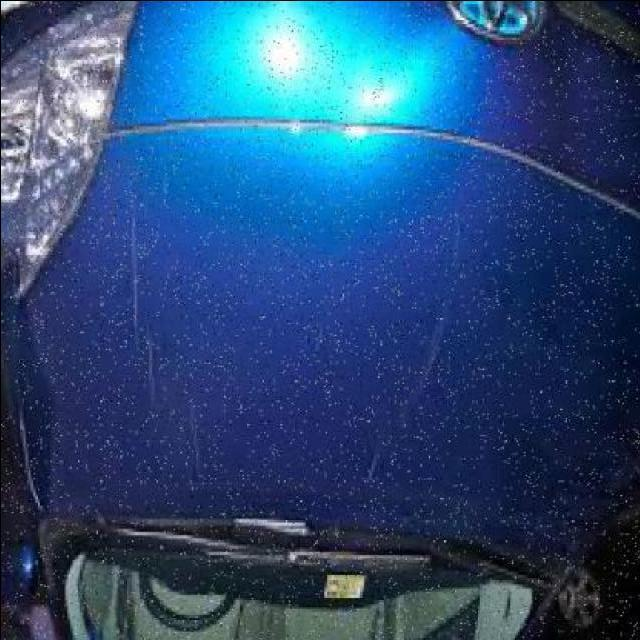bonnet-dent: (22, 52, 640, 560)
